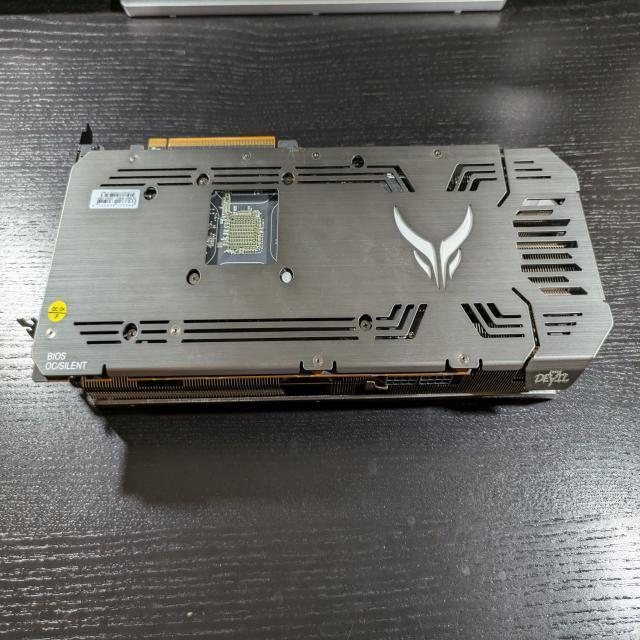GPU: (19, 127, 620, 409)
